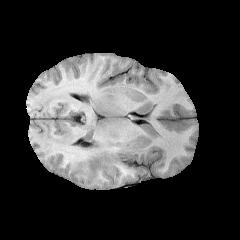glioma: (84, 147, 124, 175)
